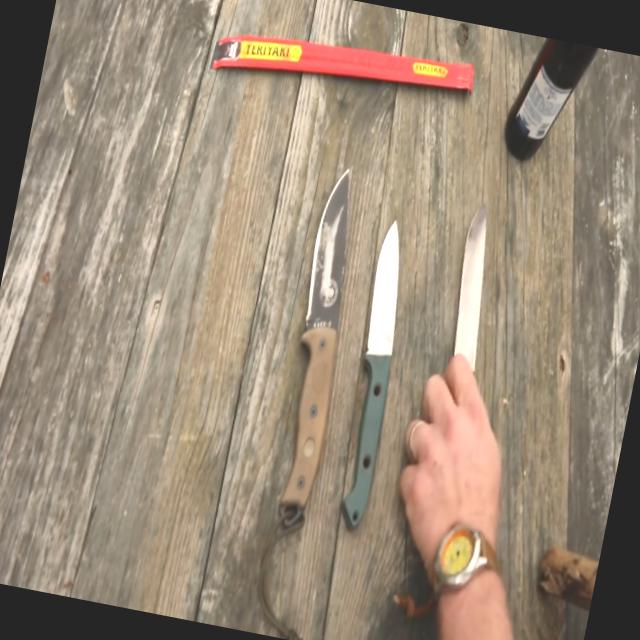knife: (401, 178, 556, 474), (282, 144, 382, 384), (344, 196, 434, 404)
